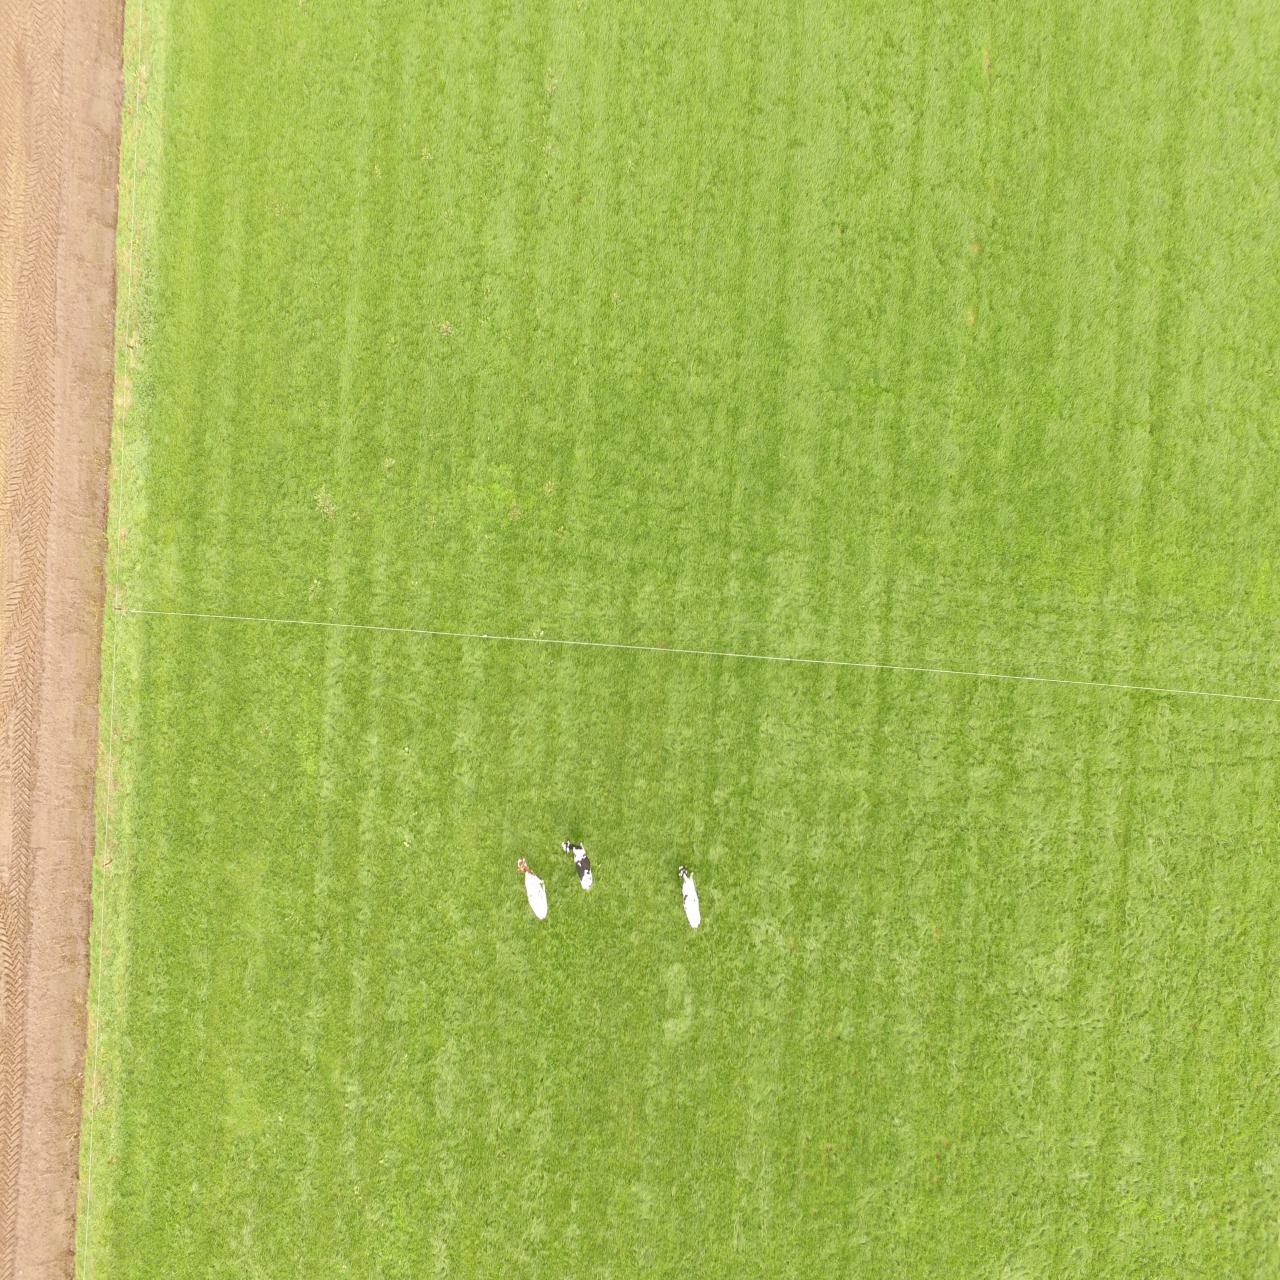cow: (512, 853, 551, 926), (558, 835, 595, 897), (673, 860, 703, 934)
